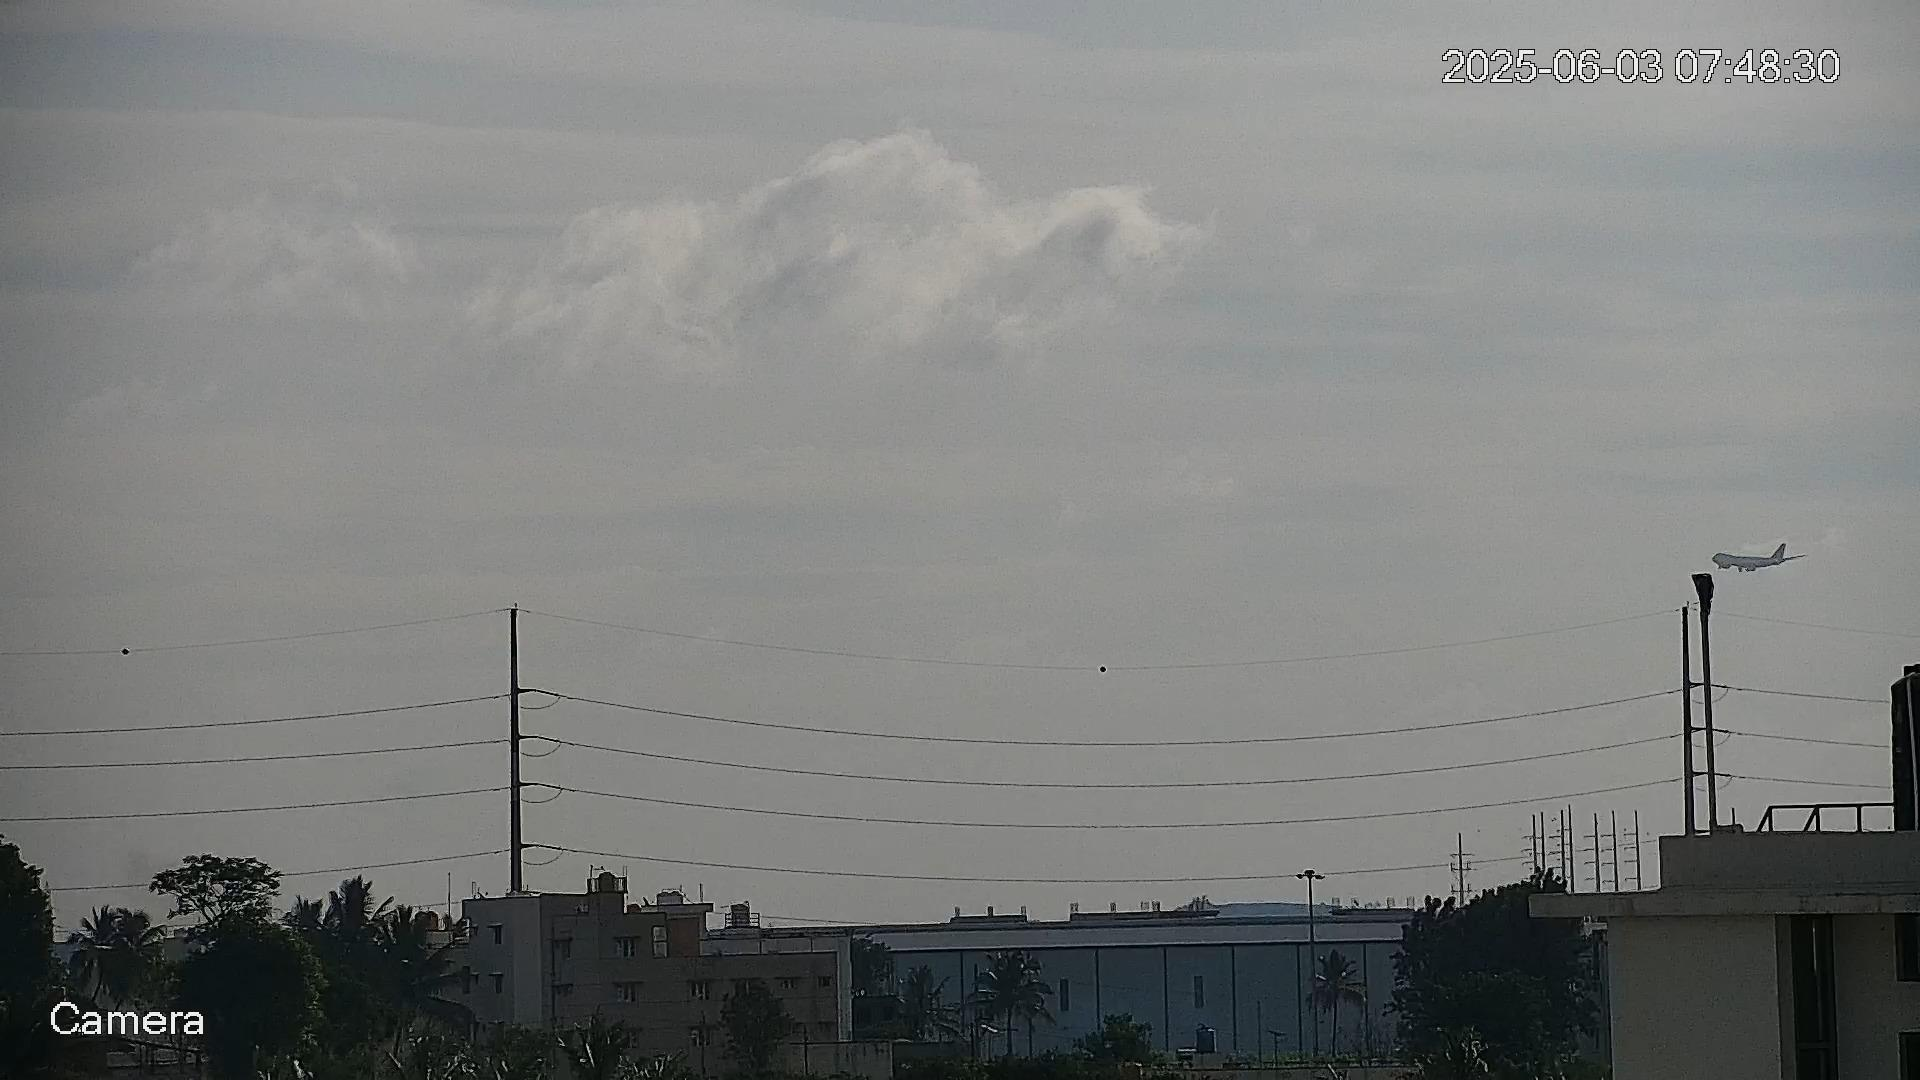Aircraft: (1708, 543, 1808, 572)
